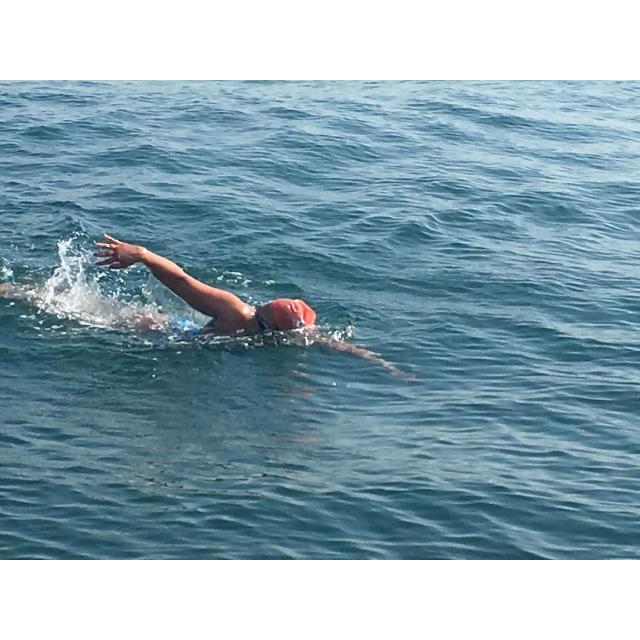human: (88, 231, 398, 373)
